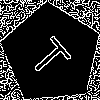T: (26, 28, 79, 82)
